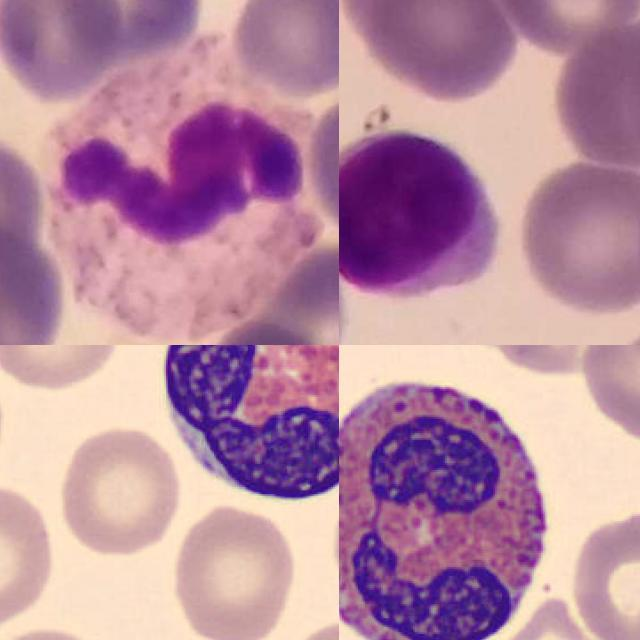Eosinophil: (339, 357, 565, 640), (146, 345, 339, 515)
Lymphocyte: (339, 130, 501, 300)
Neutrophil: (43, 47, 315, 345)
RBC: (166, 499, 301, 640), (52, 420, 186, 561), (569, 505, 640, 640), (0, 478, 59, 636), (480, 593, 640, 640), (452, 345, 631, 383), (576, 345, 640, 441), (0, 345, 125, 393)
